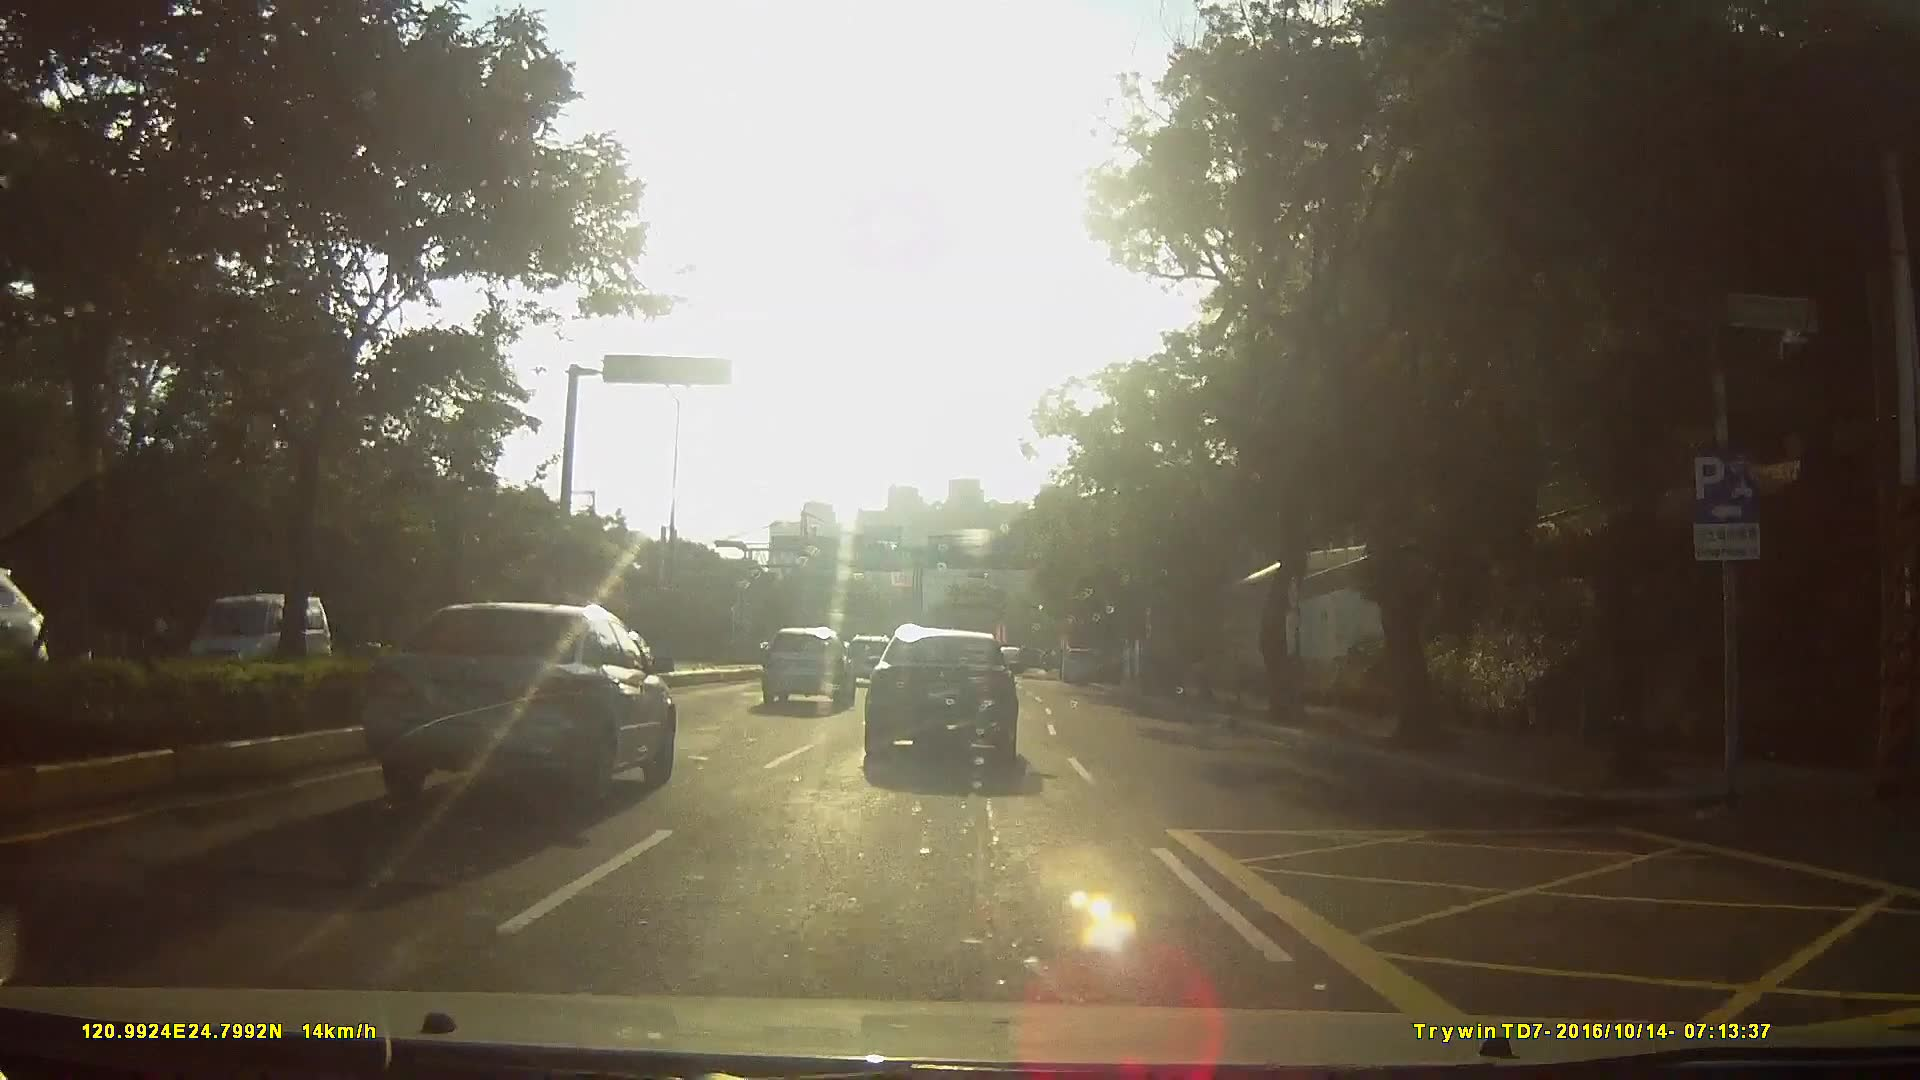vehicle: (367, 595, 678, 810), (865, 620, 1044, 767), (183, 593, 335, 700), (756, 625, 856, 712), (1, 558, 55, 707), (841, 630, 895, 684), (1060, 646, 1102, 686)
